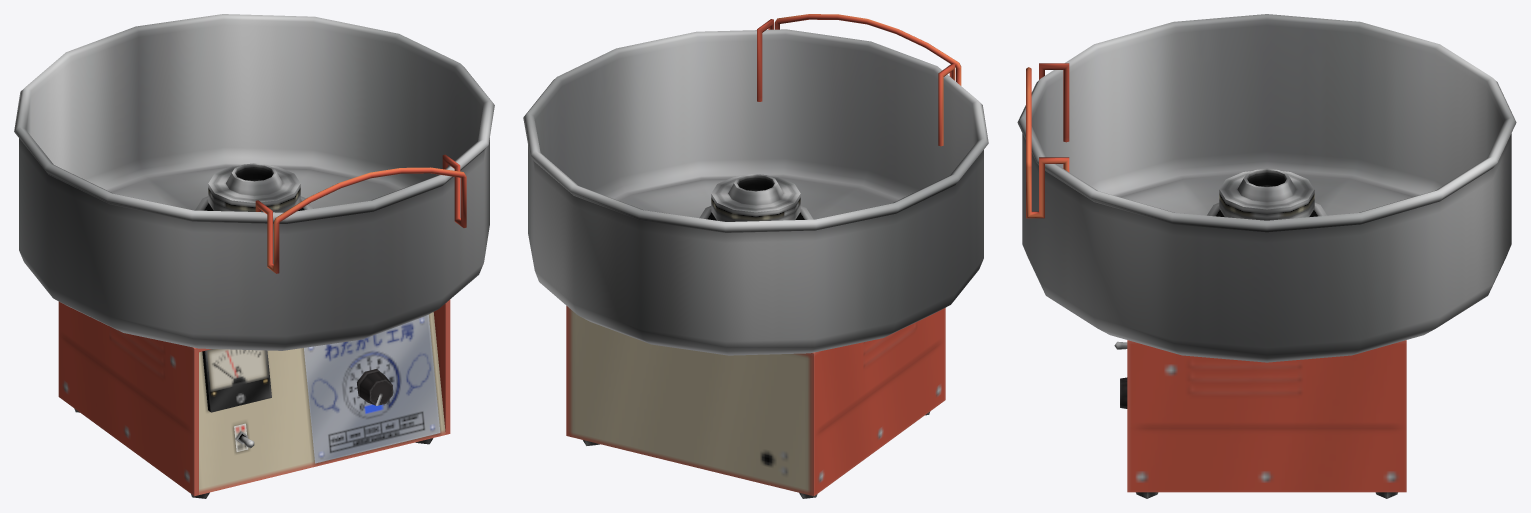
The model's file is jsf_CottonMachine_02.fbx.
The picture shows the model from 3 angles, left to right: view 1: azimuth 30°, elevation 25°; view 2: azimuth 150°, elevation 25°; view 3: azimuth 270°, elevation 25°; orthographic projection. The views are drawn at different scales.
Parts seen in each view (by area): view 1: Body, RotaryBowl, Hook, Switch_01; view 2: Body, RotaryBowl, Hook; view 3: Body, RotaryBowl, Hook.
Part boxes in pixels (box(x1,y1,x2,y2)): Body: box(14, 14, 494, 498); RotaryBowl: box(208, 163, 300, 212); Hook: box(255, 154, 466, 273); Switch_01: box(357, 369, 392, 405); Body: box(523, 29, 988, 498); RotaryBowl: box(711, 174, 800, 221); Hook: box(757, 14, 961, 146); Body: box(1017, 14, 1516, 498); RotaryBowl: box(1219, 168, 1314, 220); Hook: box(1026, 63, 1069, 218).
Bounding box in the file's own units: 55.8 × 42.84 × 55.8.
